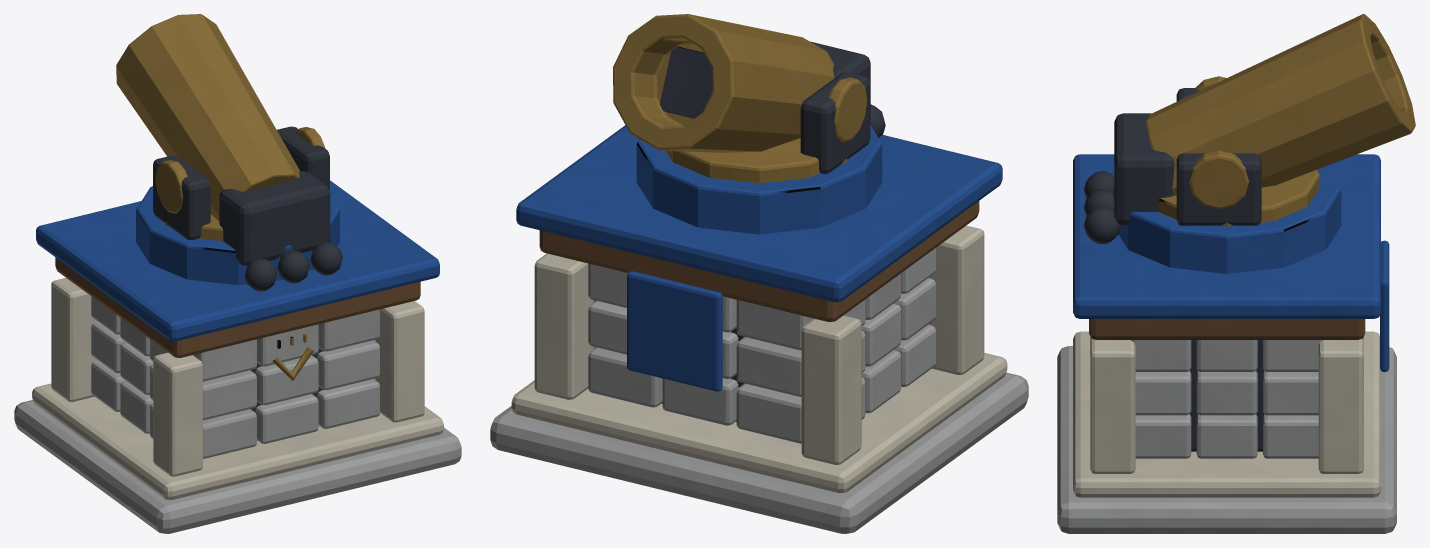
File: cannon_tower_low.glb
The picture shows the model from 3 angles, left to right: view 1: azimuth 30°, elevation 25°; view 2: azimuth 150°, elevation 25°; view 3: azimuth 270°, elevation 25°; orthographic projection. The views are drawn at different scales.
Visible parts, largest first — view 1: cannon_tower_low_surface; view 2: cannon_tower_low_surface; view 3: cannon_tower_low_surface.
Boxes of the visible parts, left/top/right/bottom form: cannon_tower_low_surface: left=14, top=14, right=461, bottom=533; cannon_tower_low_surface: left=490, top=14, right=1028, bottom=533; cannon_tower_low_surface: left=1057, top=14, right=1415, bottom=533.
Bounding box in the file's own units: 1.48 × 1.81 × 1.35.
Materials: 1 (1 with a texture image).
